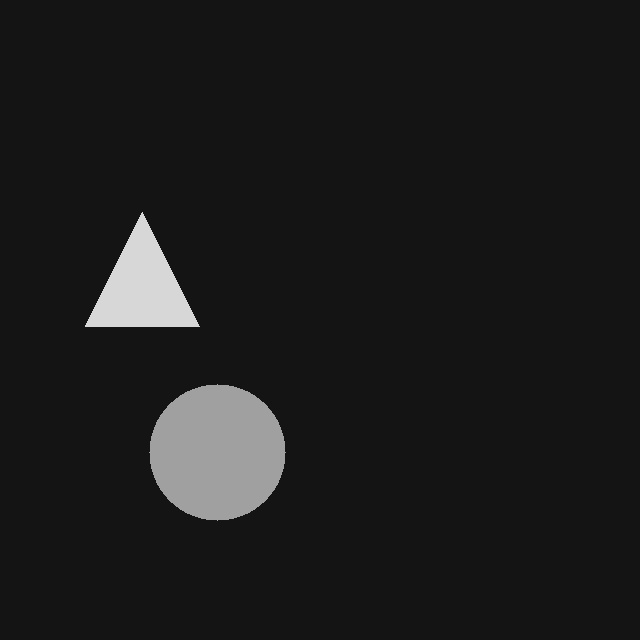circle: (149, 384, 285, 520)
triangle: (85, 212, 199, 326)
